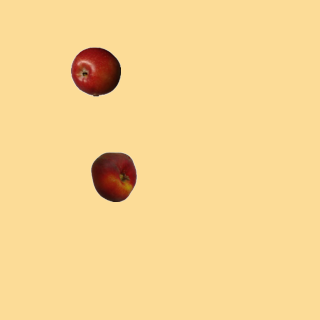Apple Braeburn: (70, 46, 120, 96)
Nectarine Flat: (88, 151, 138, 201)
